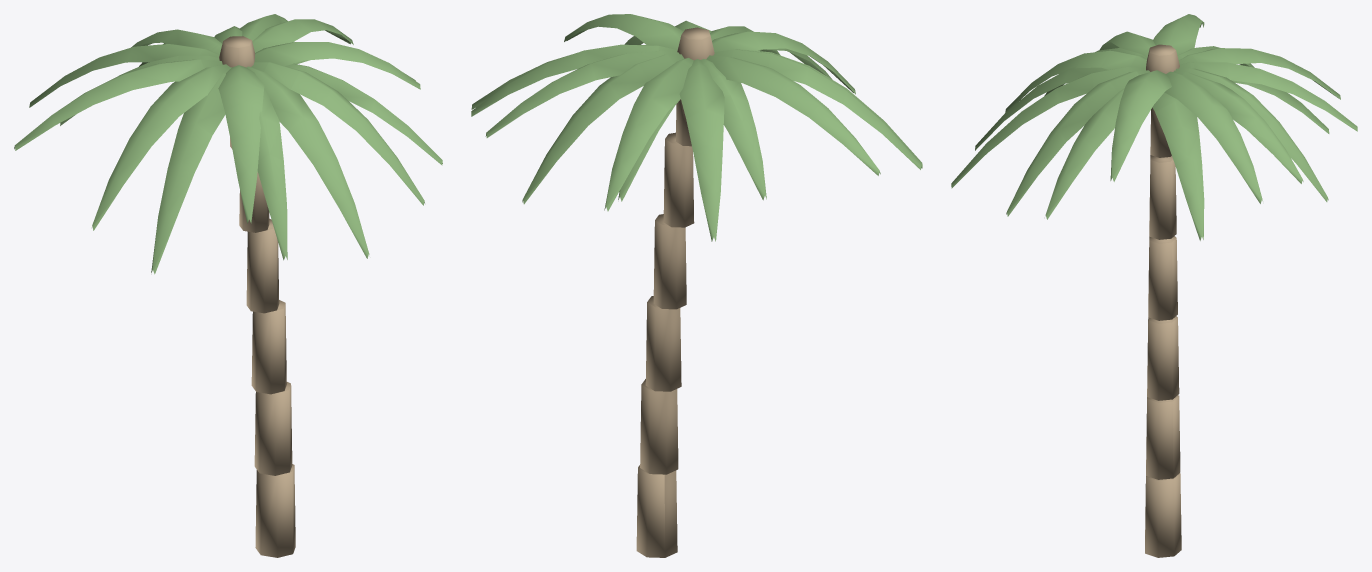
File: palm_b.glb
The picture shows the model from 3 angles, left to right: view 1: azimuth 30°, elevation 25°; view 2: azimuth 150°, elevation 25°; view 3: azimuth 270°, elevation 25°; orthographic projection. The views are drawn at different scales.
Parts seen in each view (by area): view 1: palm_b; view 2: palm_b; view 3: palm_b.
Part boxes in pixels (x1=…): palm_b: x1=14, y1=14, x2=442, y2=557; palm_b: x1=471, y1=14, x2=922, y2=557; palm_b: x1=951, y1=14, x2=1357, y2=557.
Bounding box in the file's own units: 9.39 × 11.55 × 8.82.
